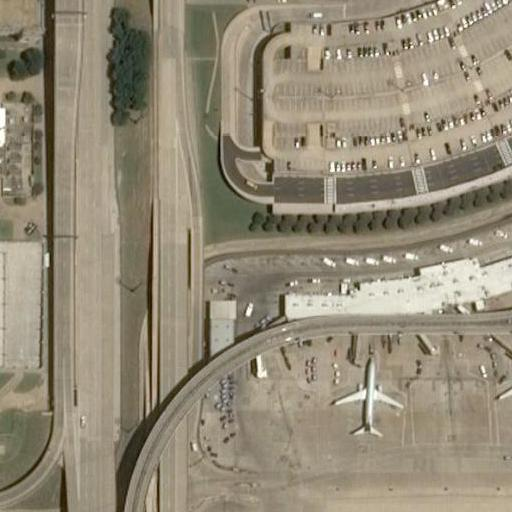Aircraft: (340, 361, 400, 437), (494, 353, 512, 432)
